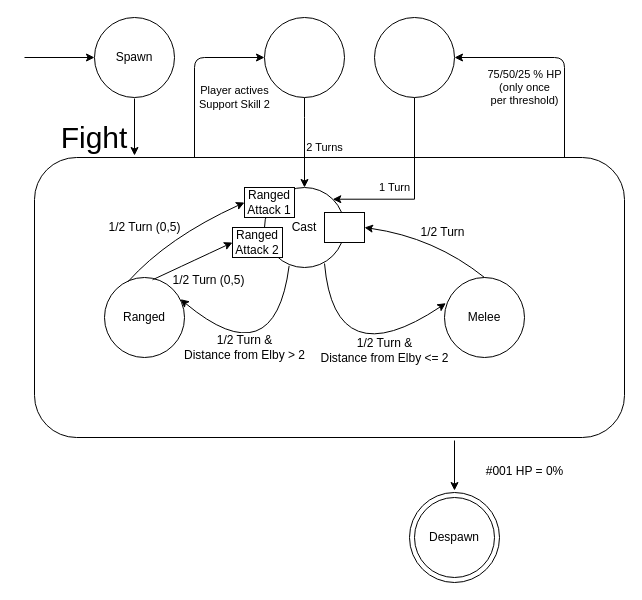
Image size: 642x600. Some labels were removed from this diagram. The shapes that lost their labels are listed below. From the top down, each one's centre as x and y in pixels, then its label:
At (304,57): "Stun".
At (414,57): "Heal".
At (344,227): "Melee Attack".
